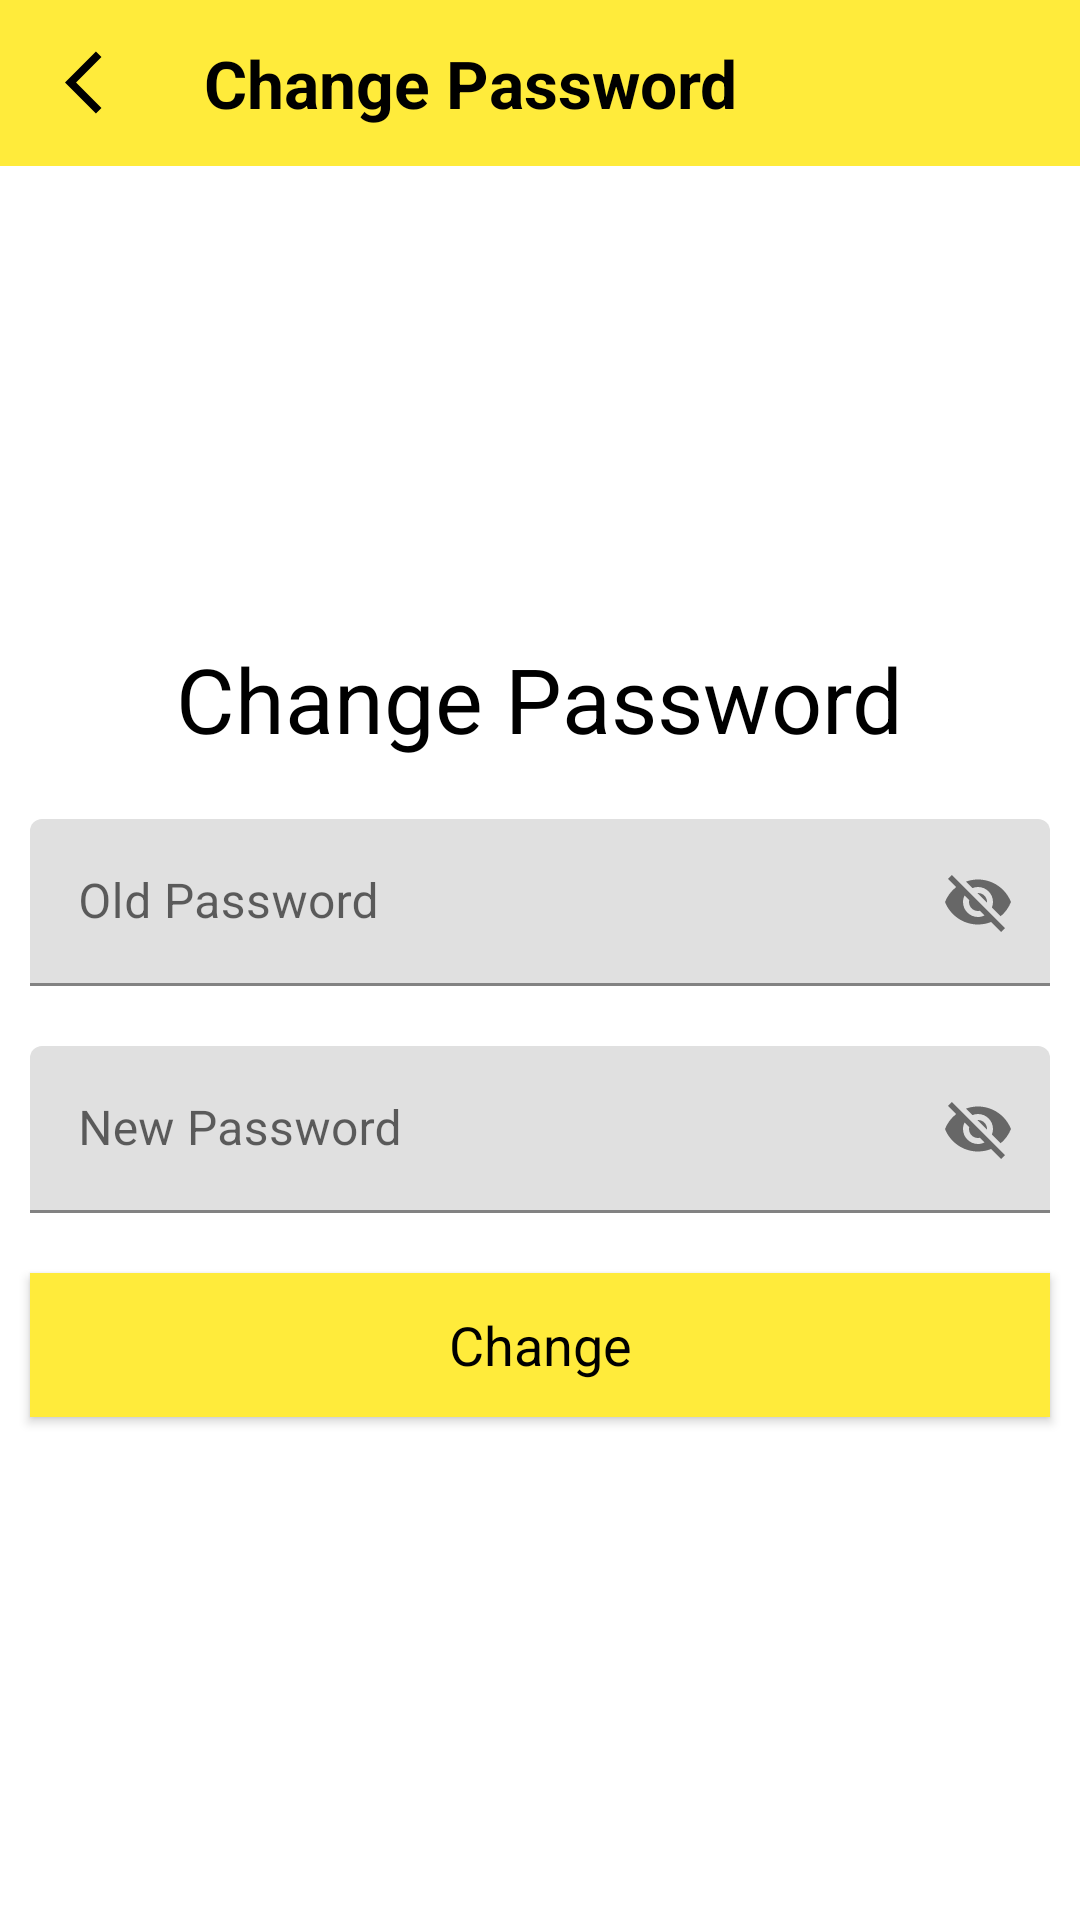

Where to tap for icons on this 1080px×1920px app screen, as point (x, y):
Back Arrow: point (83, 82)
